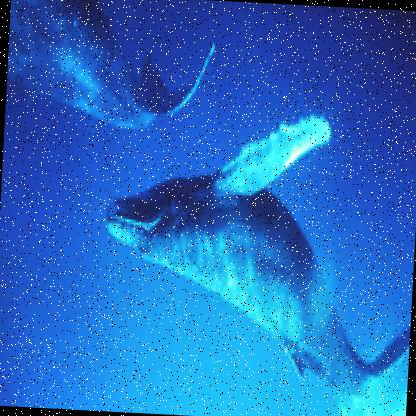blue_whale: (88, 94, 415, 407)
